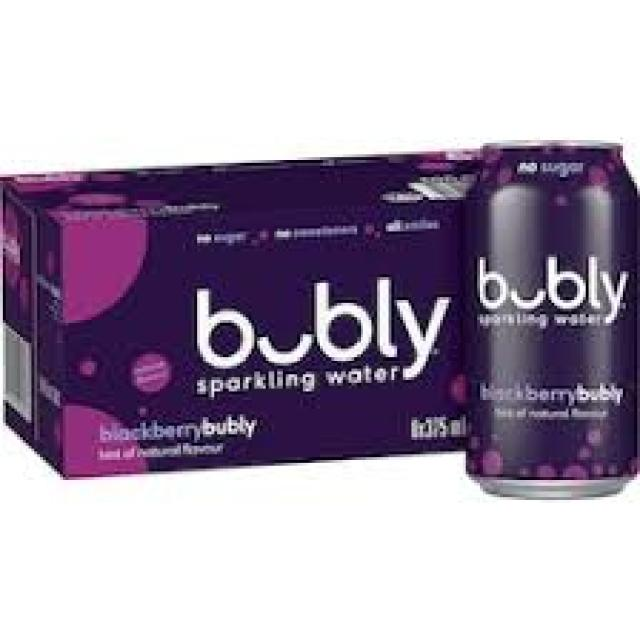Cans: (454, 131, 640, 503)
